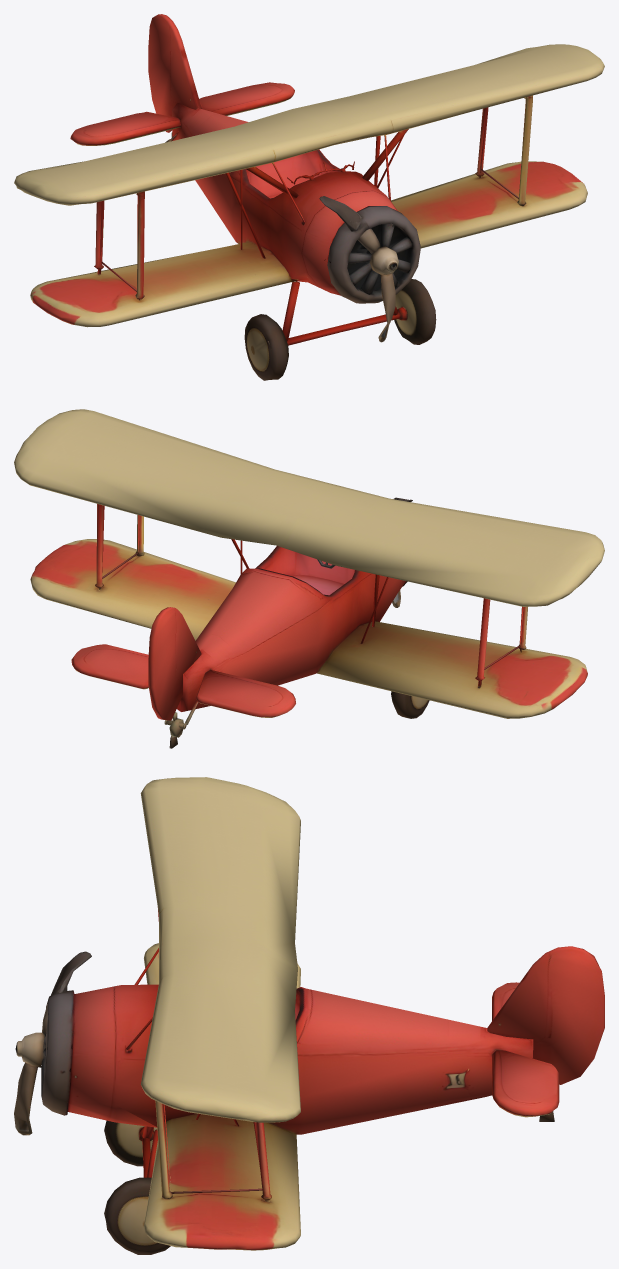
Rendered from biplano.glb.
The picture shows the model from 3 angles, top to bottom: view 1: azimuth 30°, elevation 25°; view 2: azimuth 150°, elevation 25°; view 3: azimuth 270°, elevation 25°; orthographic projection. The views are drawn at different scales.
Parts seen in each view (by area): view 1: tripo_node_3b29f4cf-b209-436d-a5b0-825713913bbb; view 2: tripo_node_3b29f4cf-b209-436d-a5b0-825713913bbb; view 3: tripo_node_3b29f4cf-b209-436d-a5b0-825713913bbb.
Boxes of the visible parts, bbox=[...] form: tripo_node_3b29f4cf-b209-436d-a5b0-825713913bbb: bbox=[14, 14, 604, 380]; tripo_node_3b29f4cf-b209-436d-a5b0-825713913bbb: bbox=[14, 409, 604, 748]; tripo_node_3b29f4cf-b209-436d-a5b0-825713913bbb: bbox=[14, 777, 604, 1254].
Bounding box in the file's own units: 0.998 × 0.3887 × 0.7559.
1 material, 1 textured.
